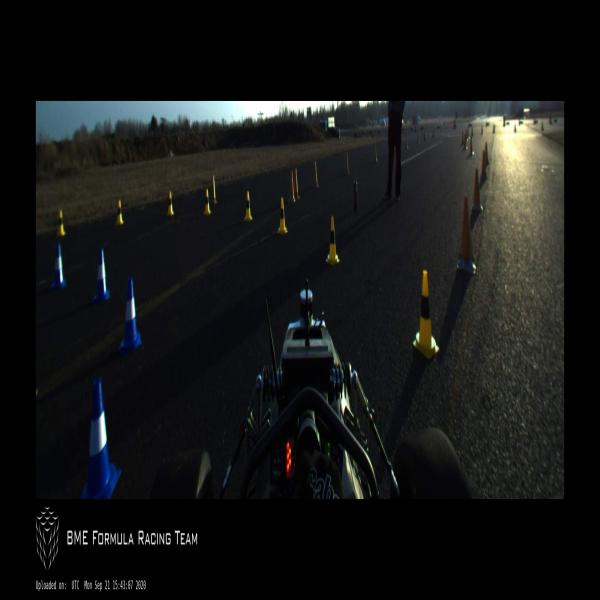blue_cone: (80, 377, 122, 499), (120, 278, 142, 351), (94, 249, 109, 301), (51, 244, 67, 288)
unknown_cone: (458, 196, 476, 272), (471, 169, 483, 210), (288, 169, 296, 202), (480, 150, 488, 180), (294, 171, 300, 199), (312, 160, 318, 187), (343, 152, 350, 174), (484, 142, 490, 164), (468, 135, 474, 155), (373, 146, 378, 162)
yellow_cone: (413, 271, 439, 359), (326, 216, 340, 266), (277, 198, 288, 234), (244, 191, 252, 221), (57, 210, 65, 236), (167, 191, 174, 216), (116, 200, 123, 225), (204, 190, 211, 214)
